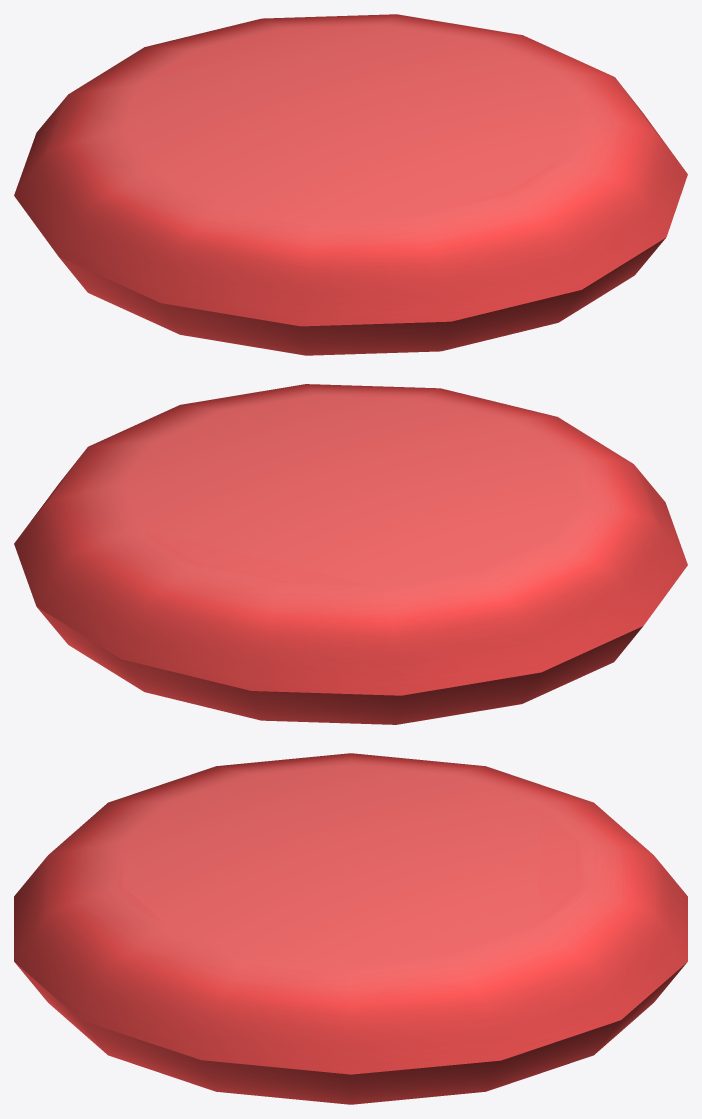
File: coma.fbx
3 views of the same model, one above another, from view 1: azimuth 30°, elevation 25°; view 2: azimuth 150°, elevation 25°; view 3: azimuth 270°, elevation 25° (orthographic). The views are drawn at different scales.
Parts seen in each view (by area): view 1: pCylinder1; view 2: pCylinder1; view 3: pCylinder1.
Boxes of the visible parts, x1=… form: pCylinder1: x1=14, y1=14, x2=687, y2=355; pCylinder1: x1=14, y1=384, x2=687, y2=724; pCylinder1: x1=14, y1=753, x2=687, y2=1104.
Size of the model in its own units: 3.88 by 0.872 by 3.79.
